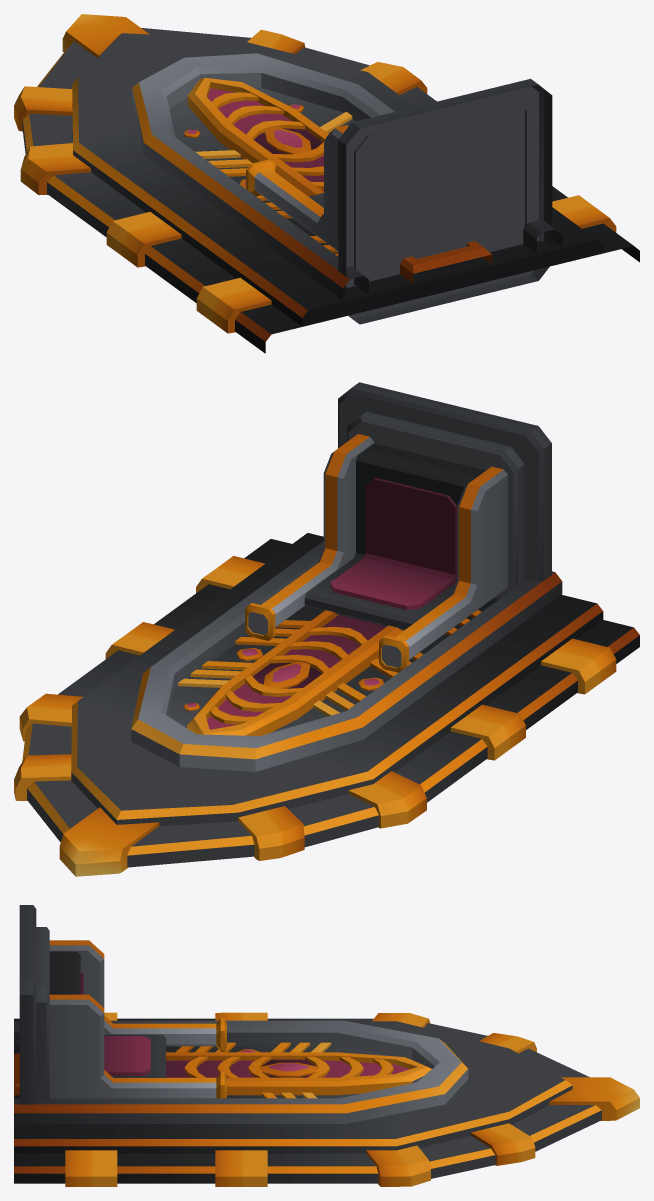
The model's file is Throne Chair 01.FBX.
The picture shows the model from 3 angles, top to bottom: view 1: azimuth 30°, elevation 25°; view 2: azimuth 150°, elevation 25°; view 3: azimuth 270°, elevation 25°; orthographic projection. The views are drawn at different scales.
Parts seen in each view (by area): view 1: Throne Chair 01; view 2: Throne Chair 01; view 3: Throne Chair 01.
Boxes of the visible parts, <box> form: Throne Chair 01: <box>14,14,639,353</box>; Throne Chair 01: <box>14,382,639,876</box>; Throne Chair 01: <box>14,905,639,1186</box>.
Size of the model in its own units: 319 by 157 by 533.
